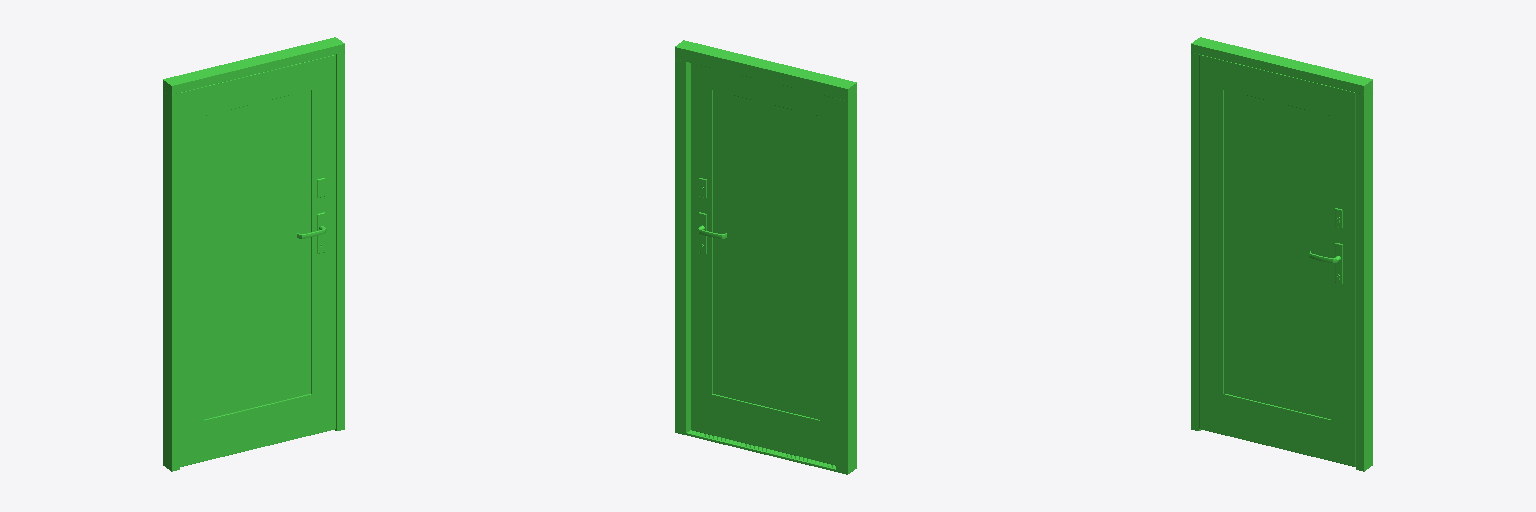
3 renders of one model, left to right at view 1: azimuth 30°, elevation 25°; view 2: azimuth 150°, elevation 25°; view 3: azimuth 330°, elevation 25°, orthographic.
Parts seen in each view (by area): view 1: AM109_060_02, AM109_060_00; view 2: AM109_060_02, AM109_060_00; view 3: AM109_060_02, AM109_060_00.
Boxes of the visible parts, x1=… form: AM109_060_02: x1=180, y1=55, x2=335, y2=466; AM109_060_00: x1=163, y1=37, x2=344, y2=471; AM109_060_02: x1=691, y1=63, x2=835, y2=465; AM109_060_00: x1=675, y1=40, x2=856, y2=474; AM109_060_02: x1=1199, y1=55, x2=1355, y2=466; AM109_060_00: x1=1191, y1=37, x2=1372, y2=471.
Bounding box in the file's own units: 974 × 2074 × 170.